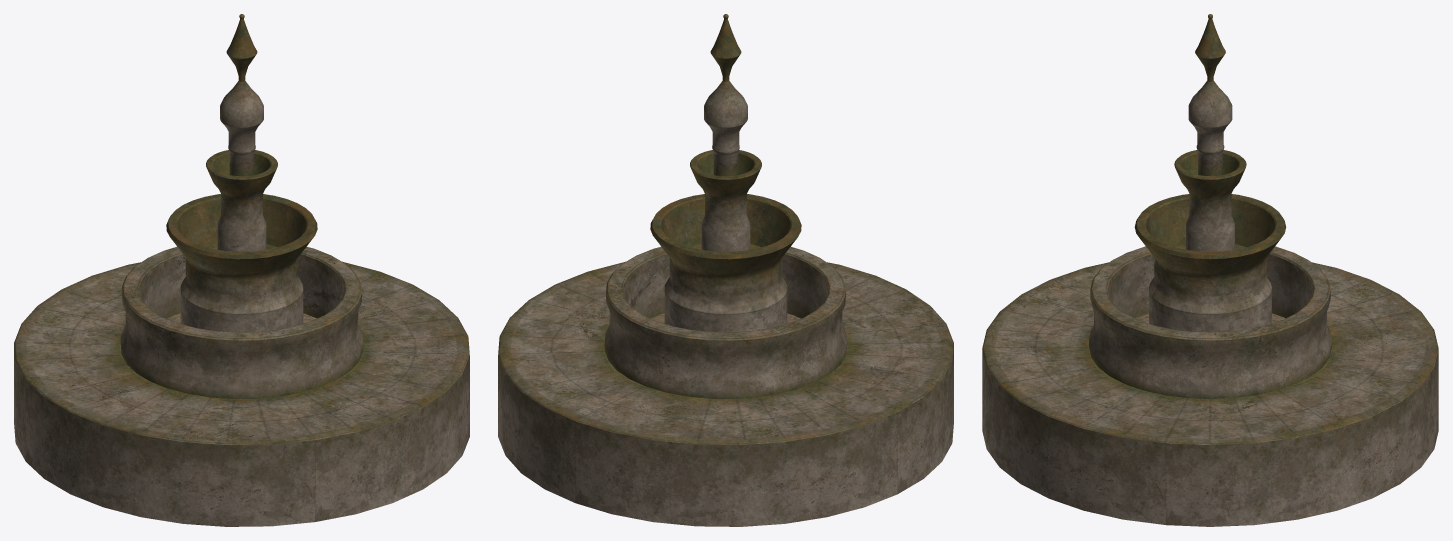
File: medieval_fountain_empty_free.glb
The picture shows the model from 3 angles, left to right: view 1: azimuth 30°, elevation 25°; view 2: azimuth 150°, elevation 25°; view 3: azimuth 270°, elevation 25°; orthographic projection.
Parts seen in each view (by area): view 1: Object_2, Object_3, Object_4, Object_5, Object_6, Object_7; view 2: Object_2, Object_3, Object_4, Object_5, Object_6, Object_7; view 3: Object_2, Object_3, Object_4, Object_5, Object_6, Object_7.
Part boxes in pixels (bbox=[...]): Object_2: bbox=[14, 261, 469, 444]; Object_3: bbox=[14, 343, 469, 526]; Object_4: bbox=[120, 246, 363, 398]; Object_5: bbox=[166, 194, 317, 332]; Object_6: bbox=[206, 150, 277, 251]; Object_7: bbox=[220, 14, 263, 176]; Object_2: bbox=[498, 261, 953, 444]; Object_3: bbox=[498, 343, 953, 526]; Object_4: bbox=[604, 246, 847, 398]; Object_5: bbox=[650, 194, 801, 332]; Object_6: bbox=[690, 150, 761, 251]; Object_7: bbox=[704, 14, 747, 176]; Object_2: bbox=[982, 262, 1438, 444]; Object_3: bbox=[982, 350, 1438, 526]; Object_4: bbox=[1089, 246, 1331, 398]; Object_5: bbox=[1134, 194, 1286, 332]; Object_6: bbox=[1174, 150, 1246, 251]; Object_7: bbox=[1188, 14, 1232, 175].
Size of the model in its own units: 250 by 252 by 250.
Materials: 6 (6 with a texture image).
